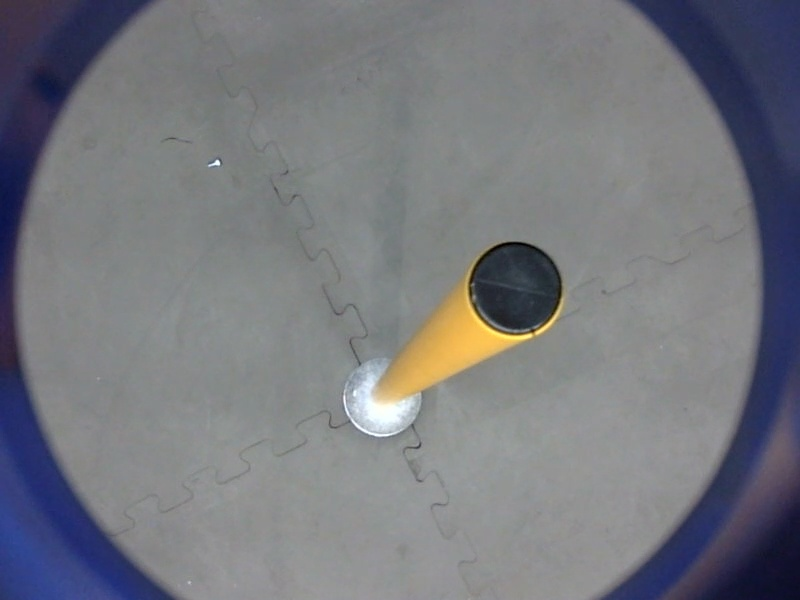tip: (462, 233, 577, 344)
